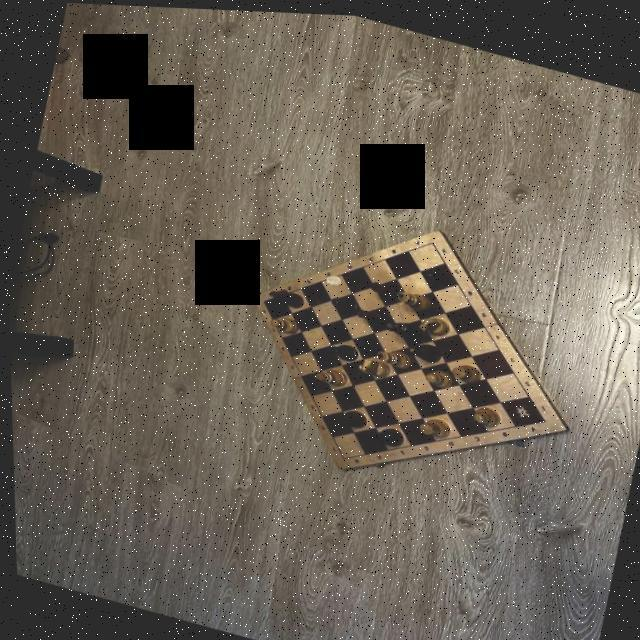chess-table-corners: (424, 235, 434, 242), (538, 412, 544, 418), (257, 297, 263, 301), (338, 453, 342, 457)
